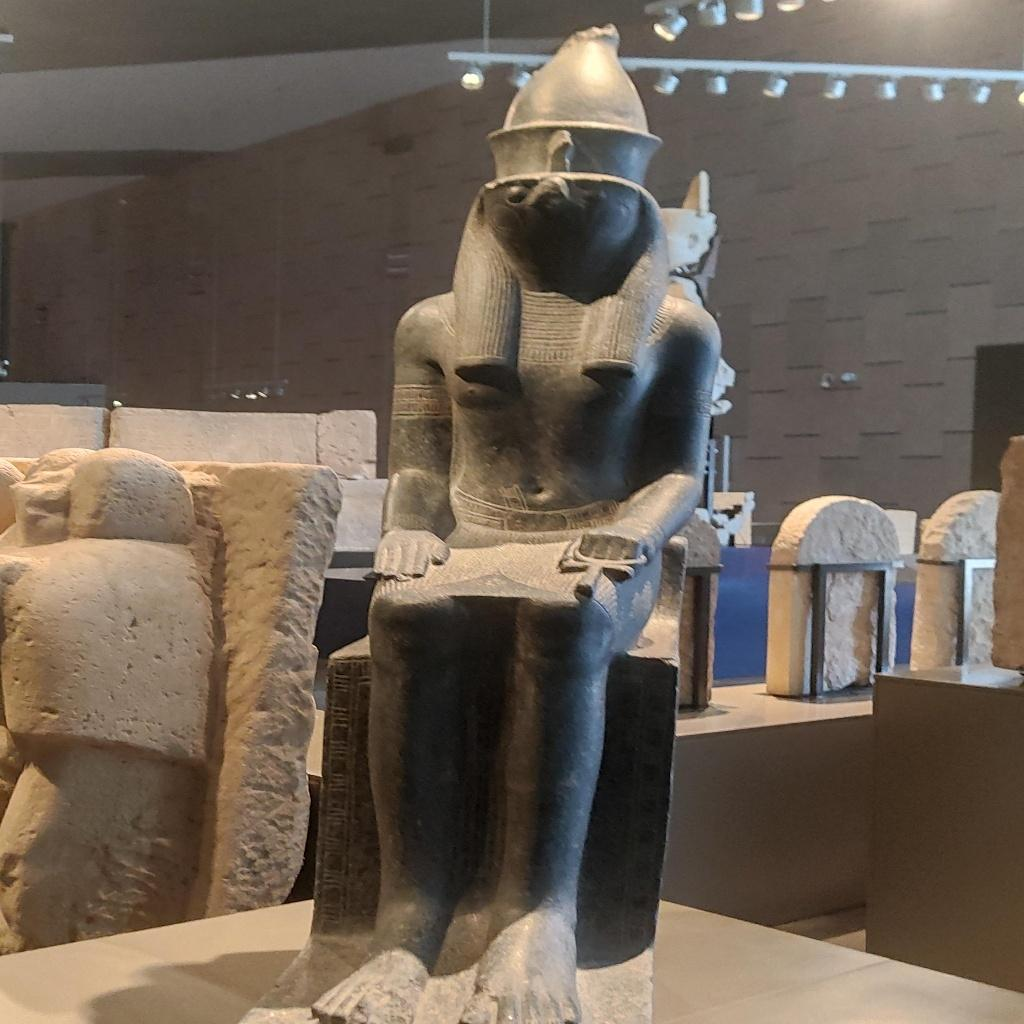Statue of God Ra-Horakhty: (337, 22, 736, 1020)
